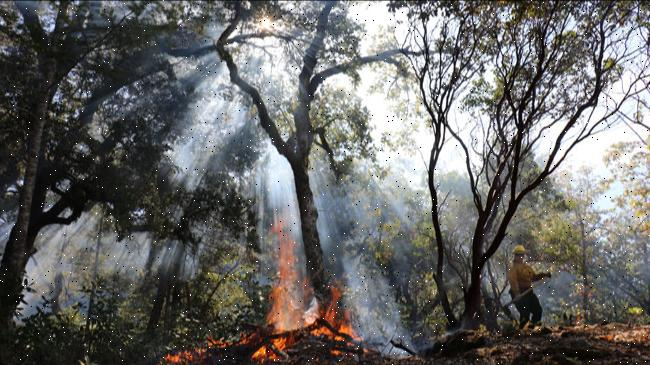fire: (158, 263, 382, 365)
